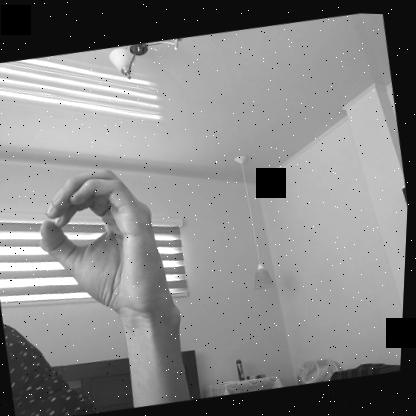O: (27, 150, 183, 333)
